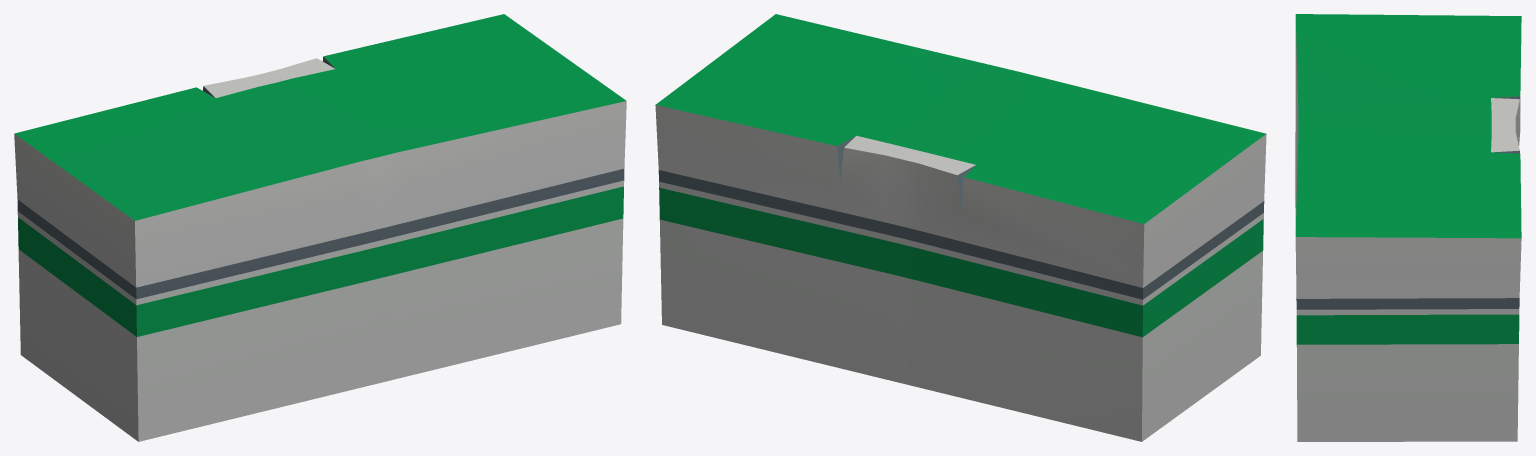
Rendered from Pfb_JLAB_Mask_Box.fbx.
The picture shows the model from 3 angles, left to right: view 1: azimuth 30°, elevation 25°; view 2: azimuth 150°, elevation 25°; view 3: azimuth 270°, elevation 25°; orthographic projection. The views are drawn at different scales.
Parts seen in each view (by area): view 1: Color; view 2: Color; view 3: Color.
Part boxes in pixels (bbox=[...]): Color: bbox=[14, 14, 626, 441]; Color: bbox=[655, 14, 1266, 441]; Color: bbox=[1295, 14, 1521, 441].
Bounding box in the file's own units: 0.2687 × 0.1179 × 0.1152.
Materials: 1 (1 with a texture image).
